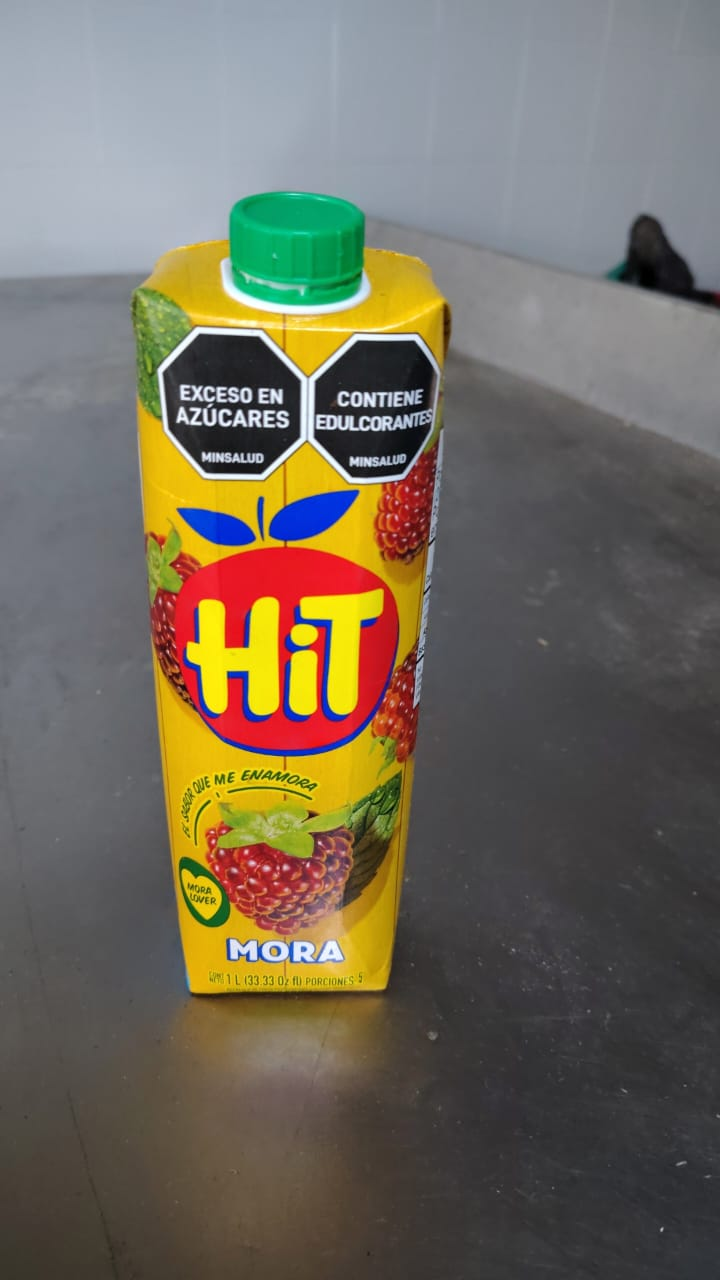Carton: (137, 243, 448, 998)
